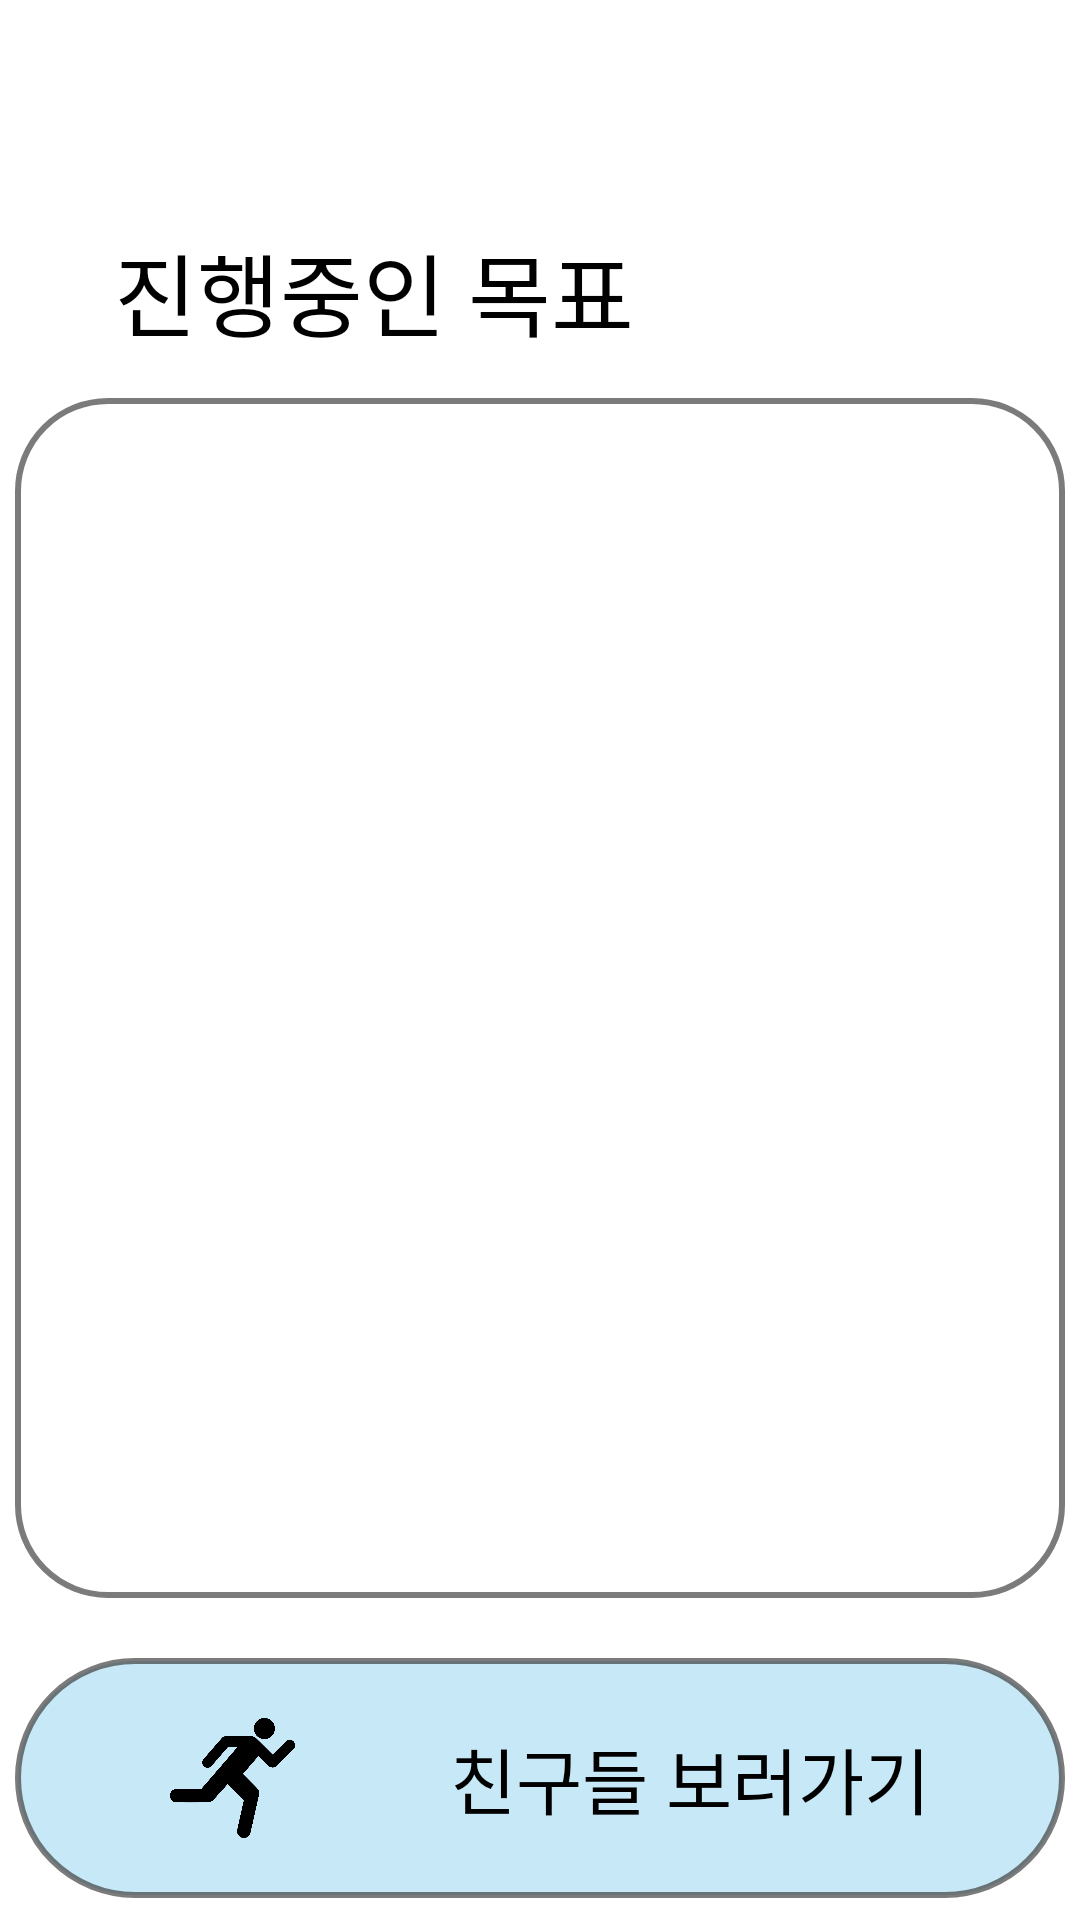

Locate icon controls on the screen. Image size 1080x1920, boxes as (x1, y1, x2, y2).
run: (170, 1718, 295, 1838)
